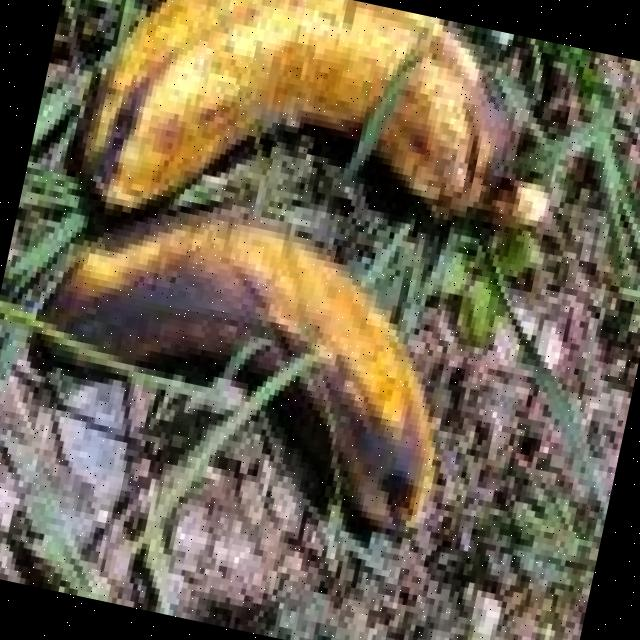Bad_Banana-0 day: (50, 209, 433, 527), (78, 0, 549, 226)
